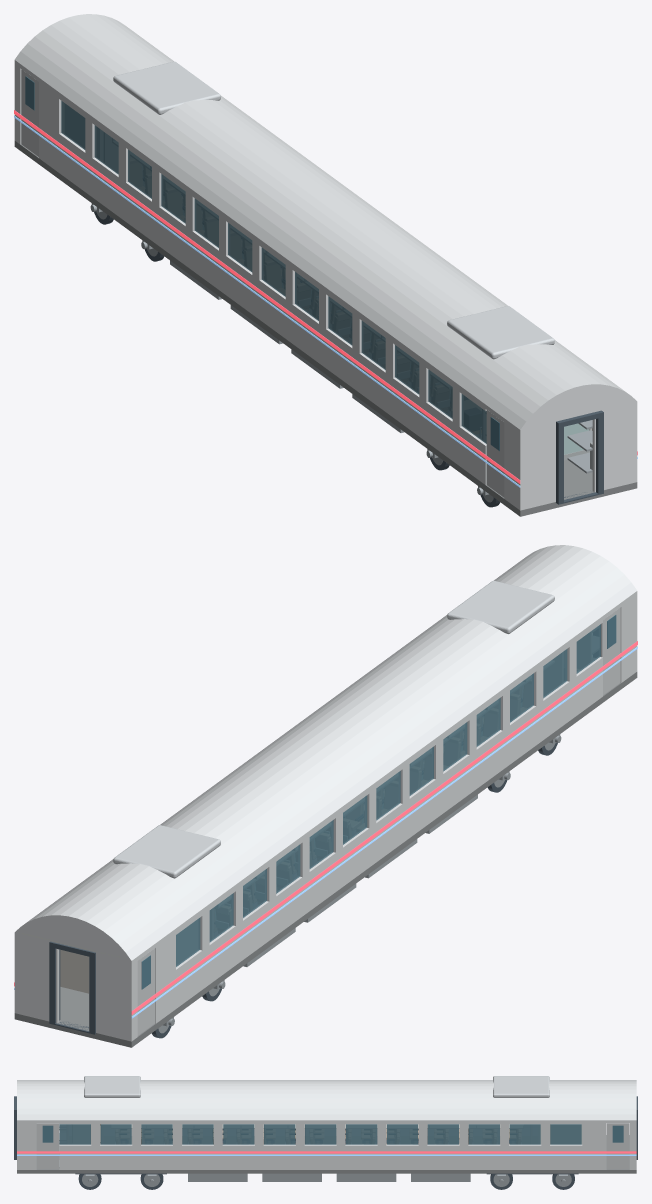
File: business.glb
The picture shows the model from 3 angles, top to bottom: view 1: azimuth 30°, elevation 25°; view 2: azimuth 150°, elevation 25°; view 3: azimuth 270°, elevation 25°; orthographic projection. The views are drawn at different scales.
Parts seen in each view (by area): view 1: BusinessRoofShell, BusinessWallN1, BusinessGlassN1, BusinessEnd001, BusinessFloor, BusinessStripeN1, BusinessHVAC, BusinessHVAC001, BusinessRoofEnd001, BusinessGangway001, BusinessDoorN1_1, BusinessDoorN1_0 (+2 smaller); view 2: BusinessRoofShell, BusinessWallN1, BusinessGlassN1, BusinessEnd, BusinessFloor, BusinessStripeN1, BusinessHVAC001, BusinessHVAC, BusinessRoofEnd, BusinessGangway, BusinessDoorN1_1, BusinessDoorN1_0 (+2 smaller); view 3: BusinessRoofShell, BusinessWall1, BusinessGlass1, BusinessStripe1, BusinessFloor, BusinessUnderfloor, BusinessHVAC001, BusinessHVAC, BusinessDoor1_0, BusinessDoor1_1, BusinessBogie1, BusinessBogie0 (+1 smaller).
Part boxes in pixels (<box>): BusinessRoofShell: <box>14,14,636,429</box>; BusinessWallN1: <box>14,60,524,510</box>; BusinessGlassN1: <box>61,101,486,443</box>; BusinessEnd001: <box>518,402,637,509</box>; BusinessFloor: <box>14,141,637,516</box>; BusinessStripeN1: <box>14,110,520,487</box>; BusinessHVAC: <box>113,61,220,114</box>; BusinessHVAC001: <box>447,306,554,359</box>; BusinessRoofEnd001: <box>518,383,636,429</box>; BusinessGangway001: <box>556,410,603,504</box>; BusinessDoorN1_1: <box>486,410,504,497</box>; BusinessDoorN1_0: <box>21,69,38,156</box>; BusinessRoofShell: <box>15,545,637,960</box>; BusinessWallN1: <box>127,591,637,1041</box>; BusinessGlassN1: <box>176,624,600,966</box>; BusinessEnd: <box>14,933,133,1040</box>; BusinessFloor: <box>14,672,637,1047</box>; BusinessStripeN1: <box>131,641,637,1018</box>; BusinessHVAC001: <box>447,580,554,634</box>; BusinessHVAC: <box>113,825,220,878</box>; BusinessRoofEnd: <box>17,914,133,960</box>; BusinessGangway: <box>49,941,95,1034</box>; BusinessDoorN1_1: <box>600,607,620,695</box>; BusinessDoorN1_0: <box>137,948,155,1035</box>; BusinessRoofShell: <box>17,1080,636,1120</box>; BusinessWall1: <box>17,1120,636,1169</box>; BusinessGlass1: <box>59,1124,581,1144</box>; BusinessStripe1: <box>17,1151,636,1155</box>; BusinessFloor: <box>17,1135,636,1173</box>; BusinessUnderfloor: <box>188,1173,470,1181</box>; BusinessHVAC001: <box>84,1076,140,1097</box>; BusinessHVAC: <box>493,1076,549,1097</box>; BusinessDoor1_0: <box>607,1123,629,1169</box>; BusinessDoor1_1: <box>36,1123,58,1169</box>; BusinessBogie1: <box>75,1173,166,1189</box>; BusinessBogie0: <box>487,1173,578,1189</box>.
Bounding box in the file's own units: 3.37 × 4.25 × 25.17.
